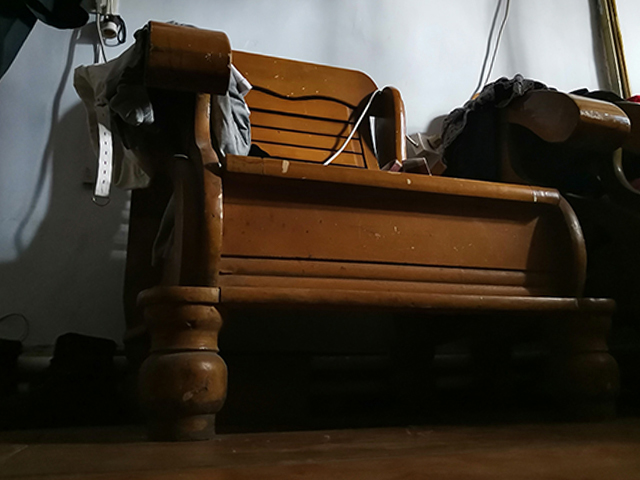stool: (105, 18, 640, 444)
